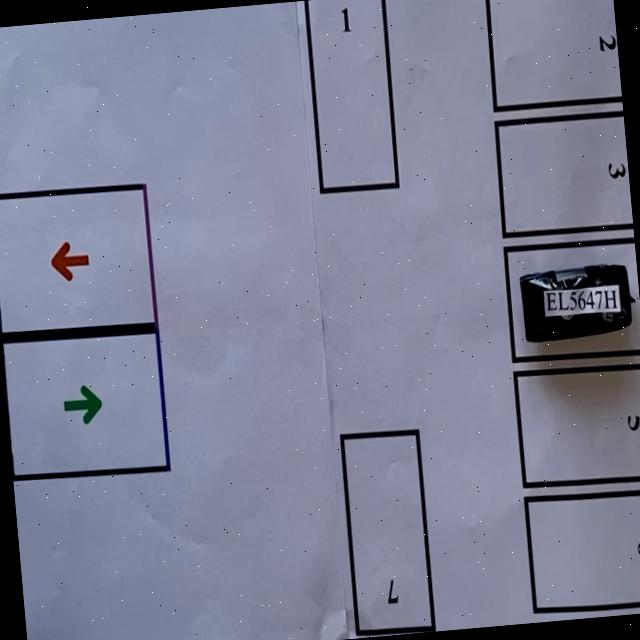car: (516, 256, 634, 348)
